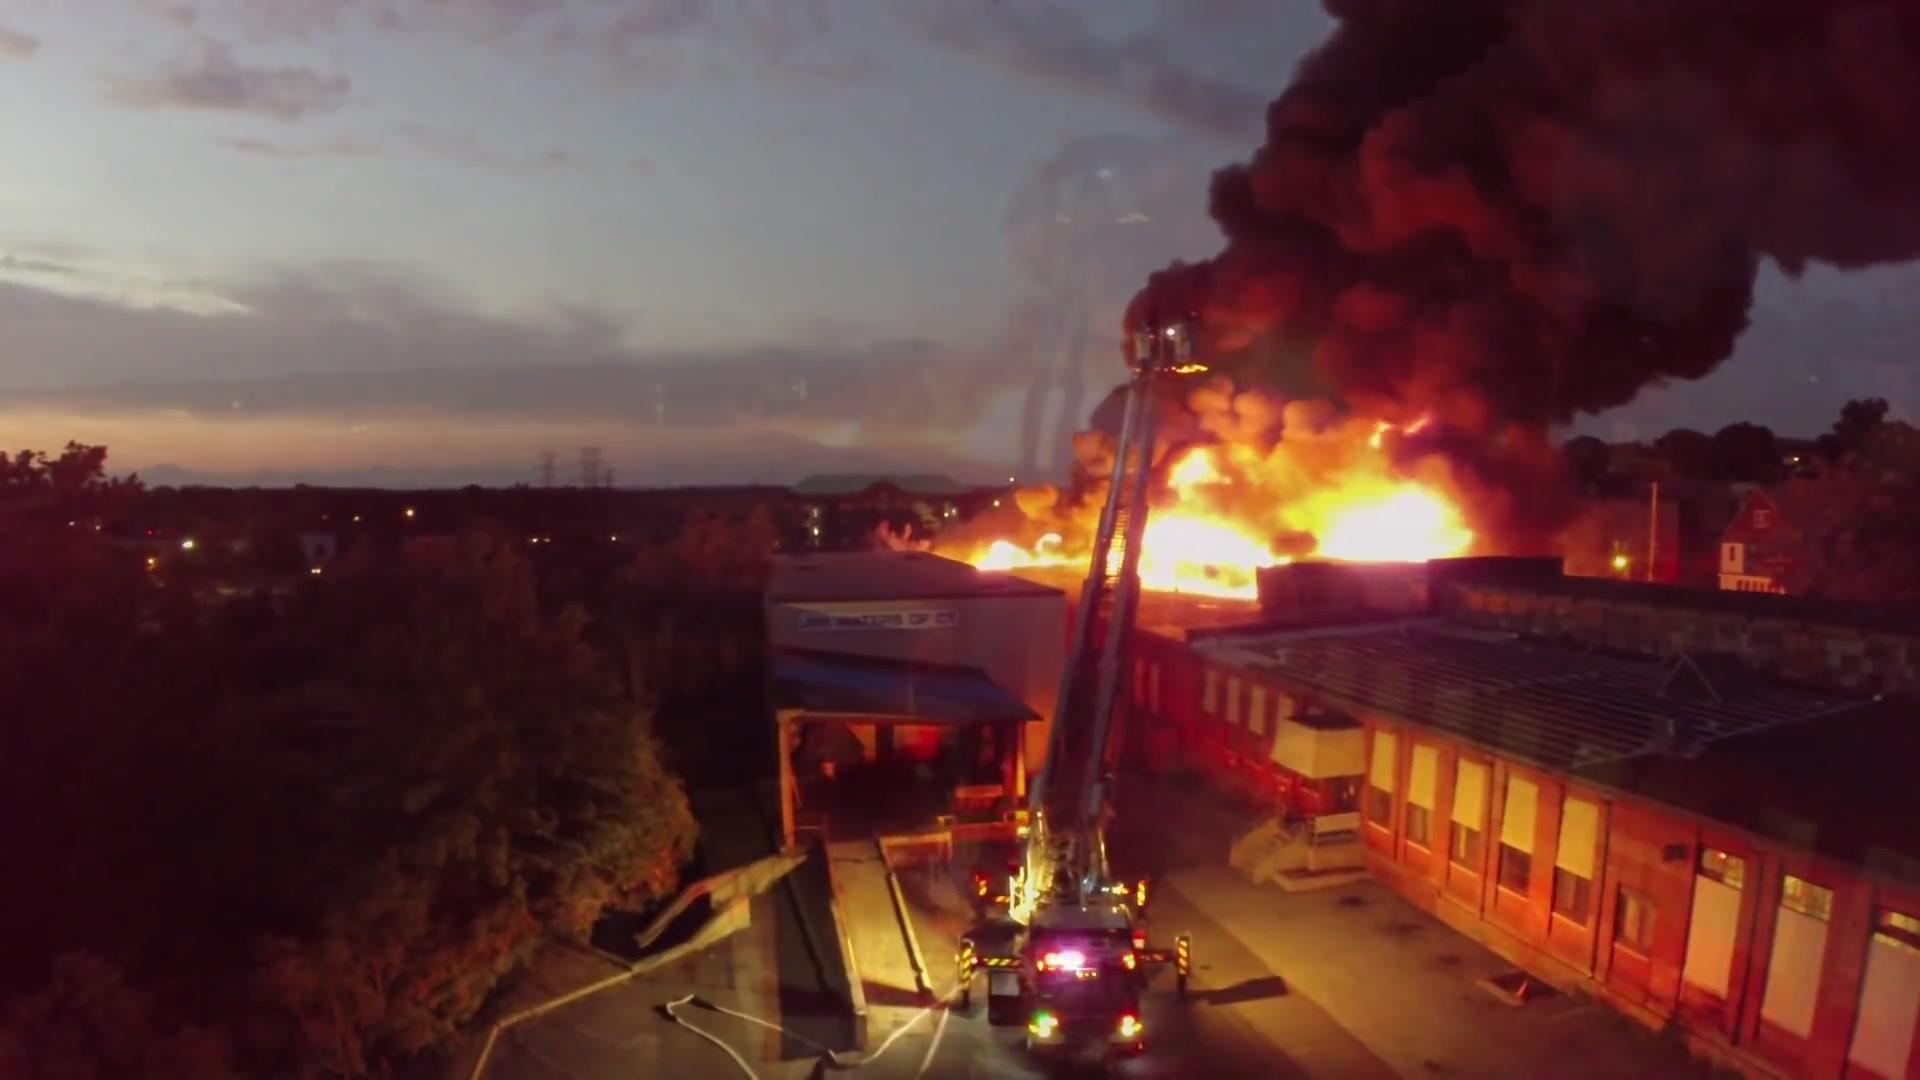fire: (1146, 425, 1478, 622)
